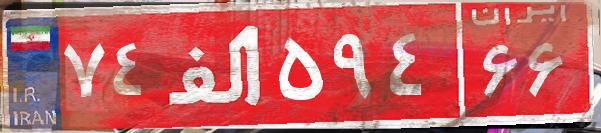4: (385, 28, 445, 110), (110, 28, 158, 105)
5: (273, 28, 330, 110)
6: (475, 38, 525, 113), (525, 38, 570, 115)
7: (57, 26, 110, 107)
9: (330, 28, 385, 110)
الف: (158, 15, 273, 115)
